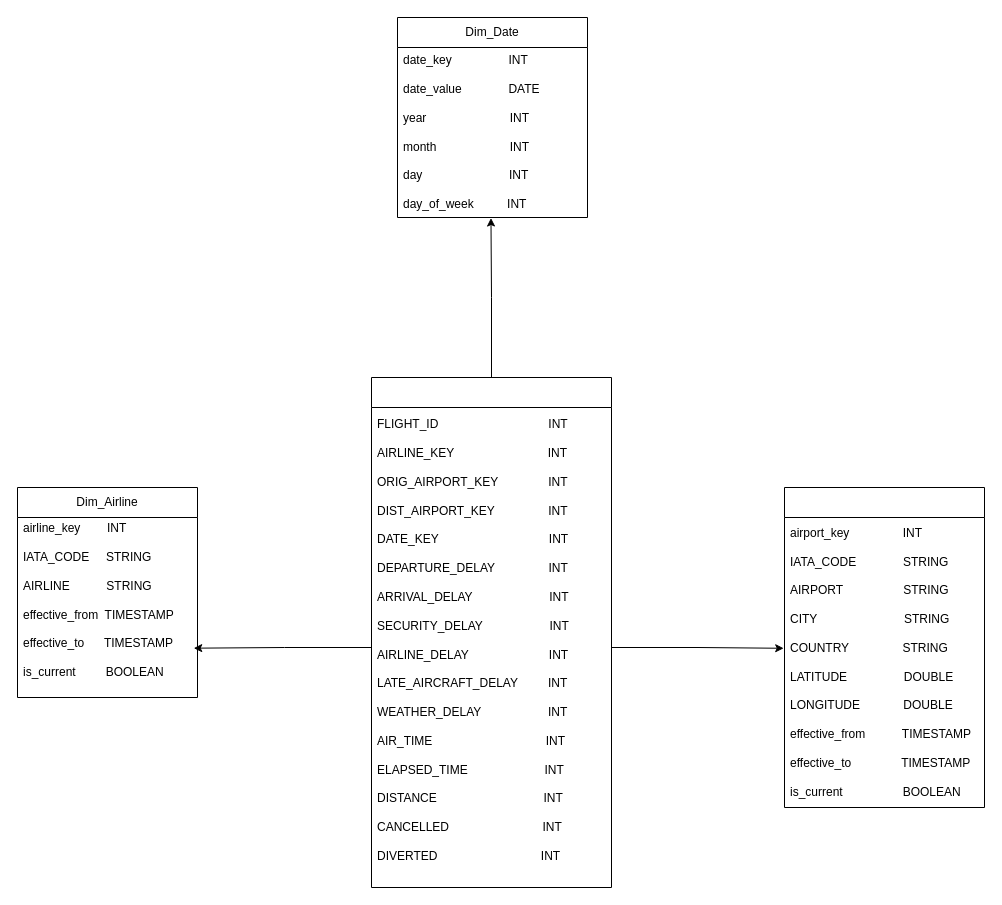
Some shapes in this 1002 by 905 pixel diagram are drawn without their labels. The shapes that lost their labels are listed below. From the top down, each one's box as (x1, y1, x2, y2) in pixels, then its label:
(370, 376, 612, 888): Fact_Flights
(784, 486, 984, 808): Dim_Airport
